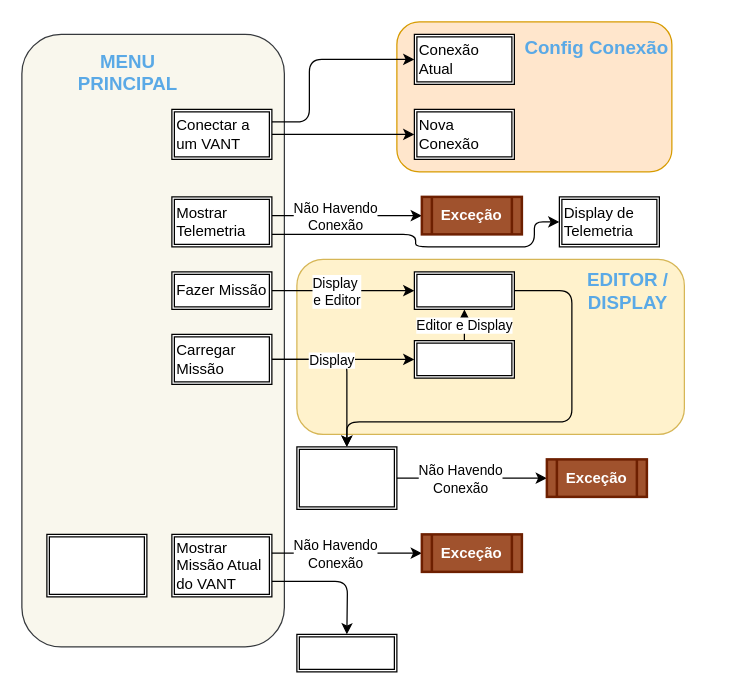
Image size: 731x694. Some labels were removed from this diagram. Each missing label, with the box of its shape:
Configurar Airframe: (46, 533, 147, 597)
Deletar: (296, 633, 397, 672)
Editar Missão: (413, 339, 514, 378)
Enviar Missão para VANT: (296, 446, 397, 509)
Salvar Missão: (413, 271, 514, 309)
